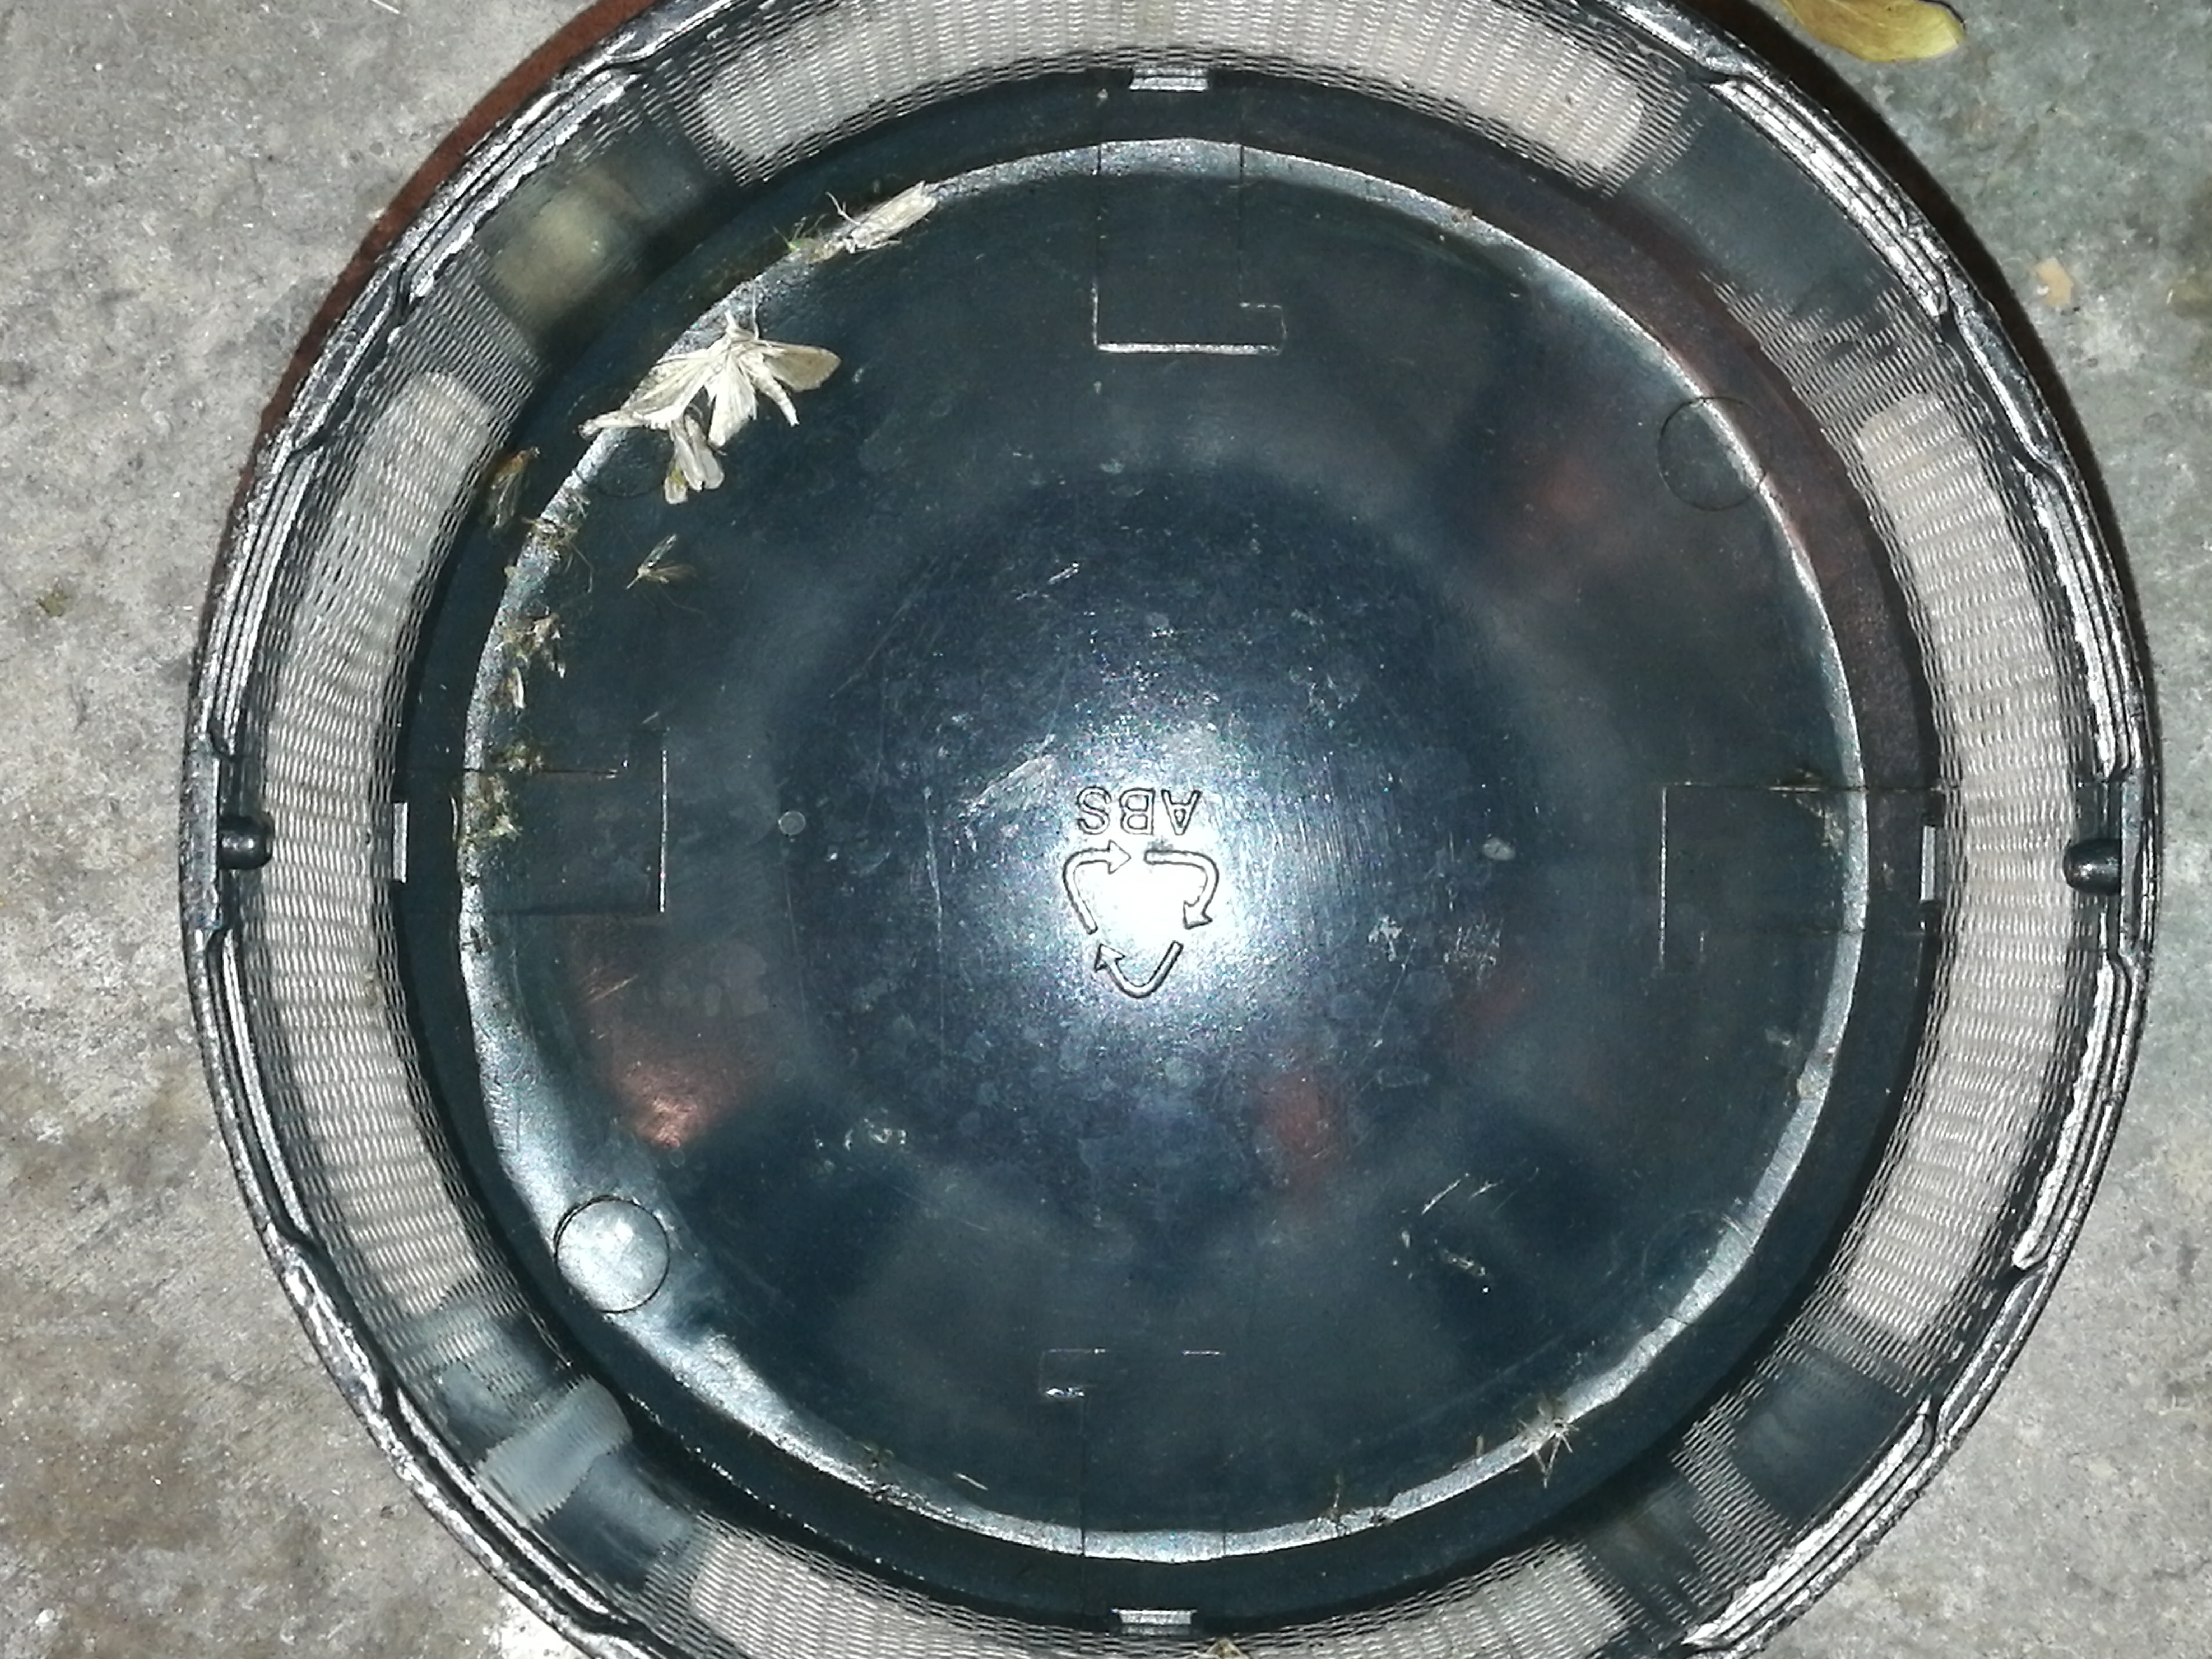mosquito: (843, 183, 935, 253), (486, 446, 538, 528), (636, 559, 697, 580)
moth: (707, 314, 840, 450), (664, 413, 725, 505)
